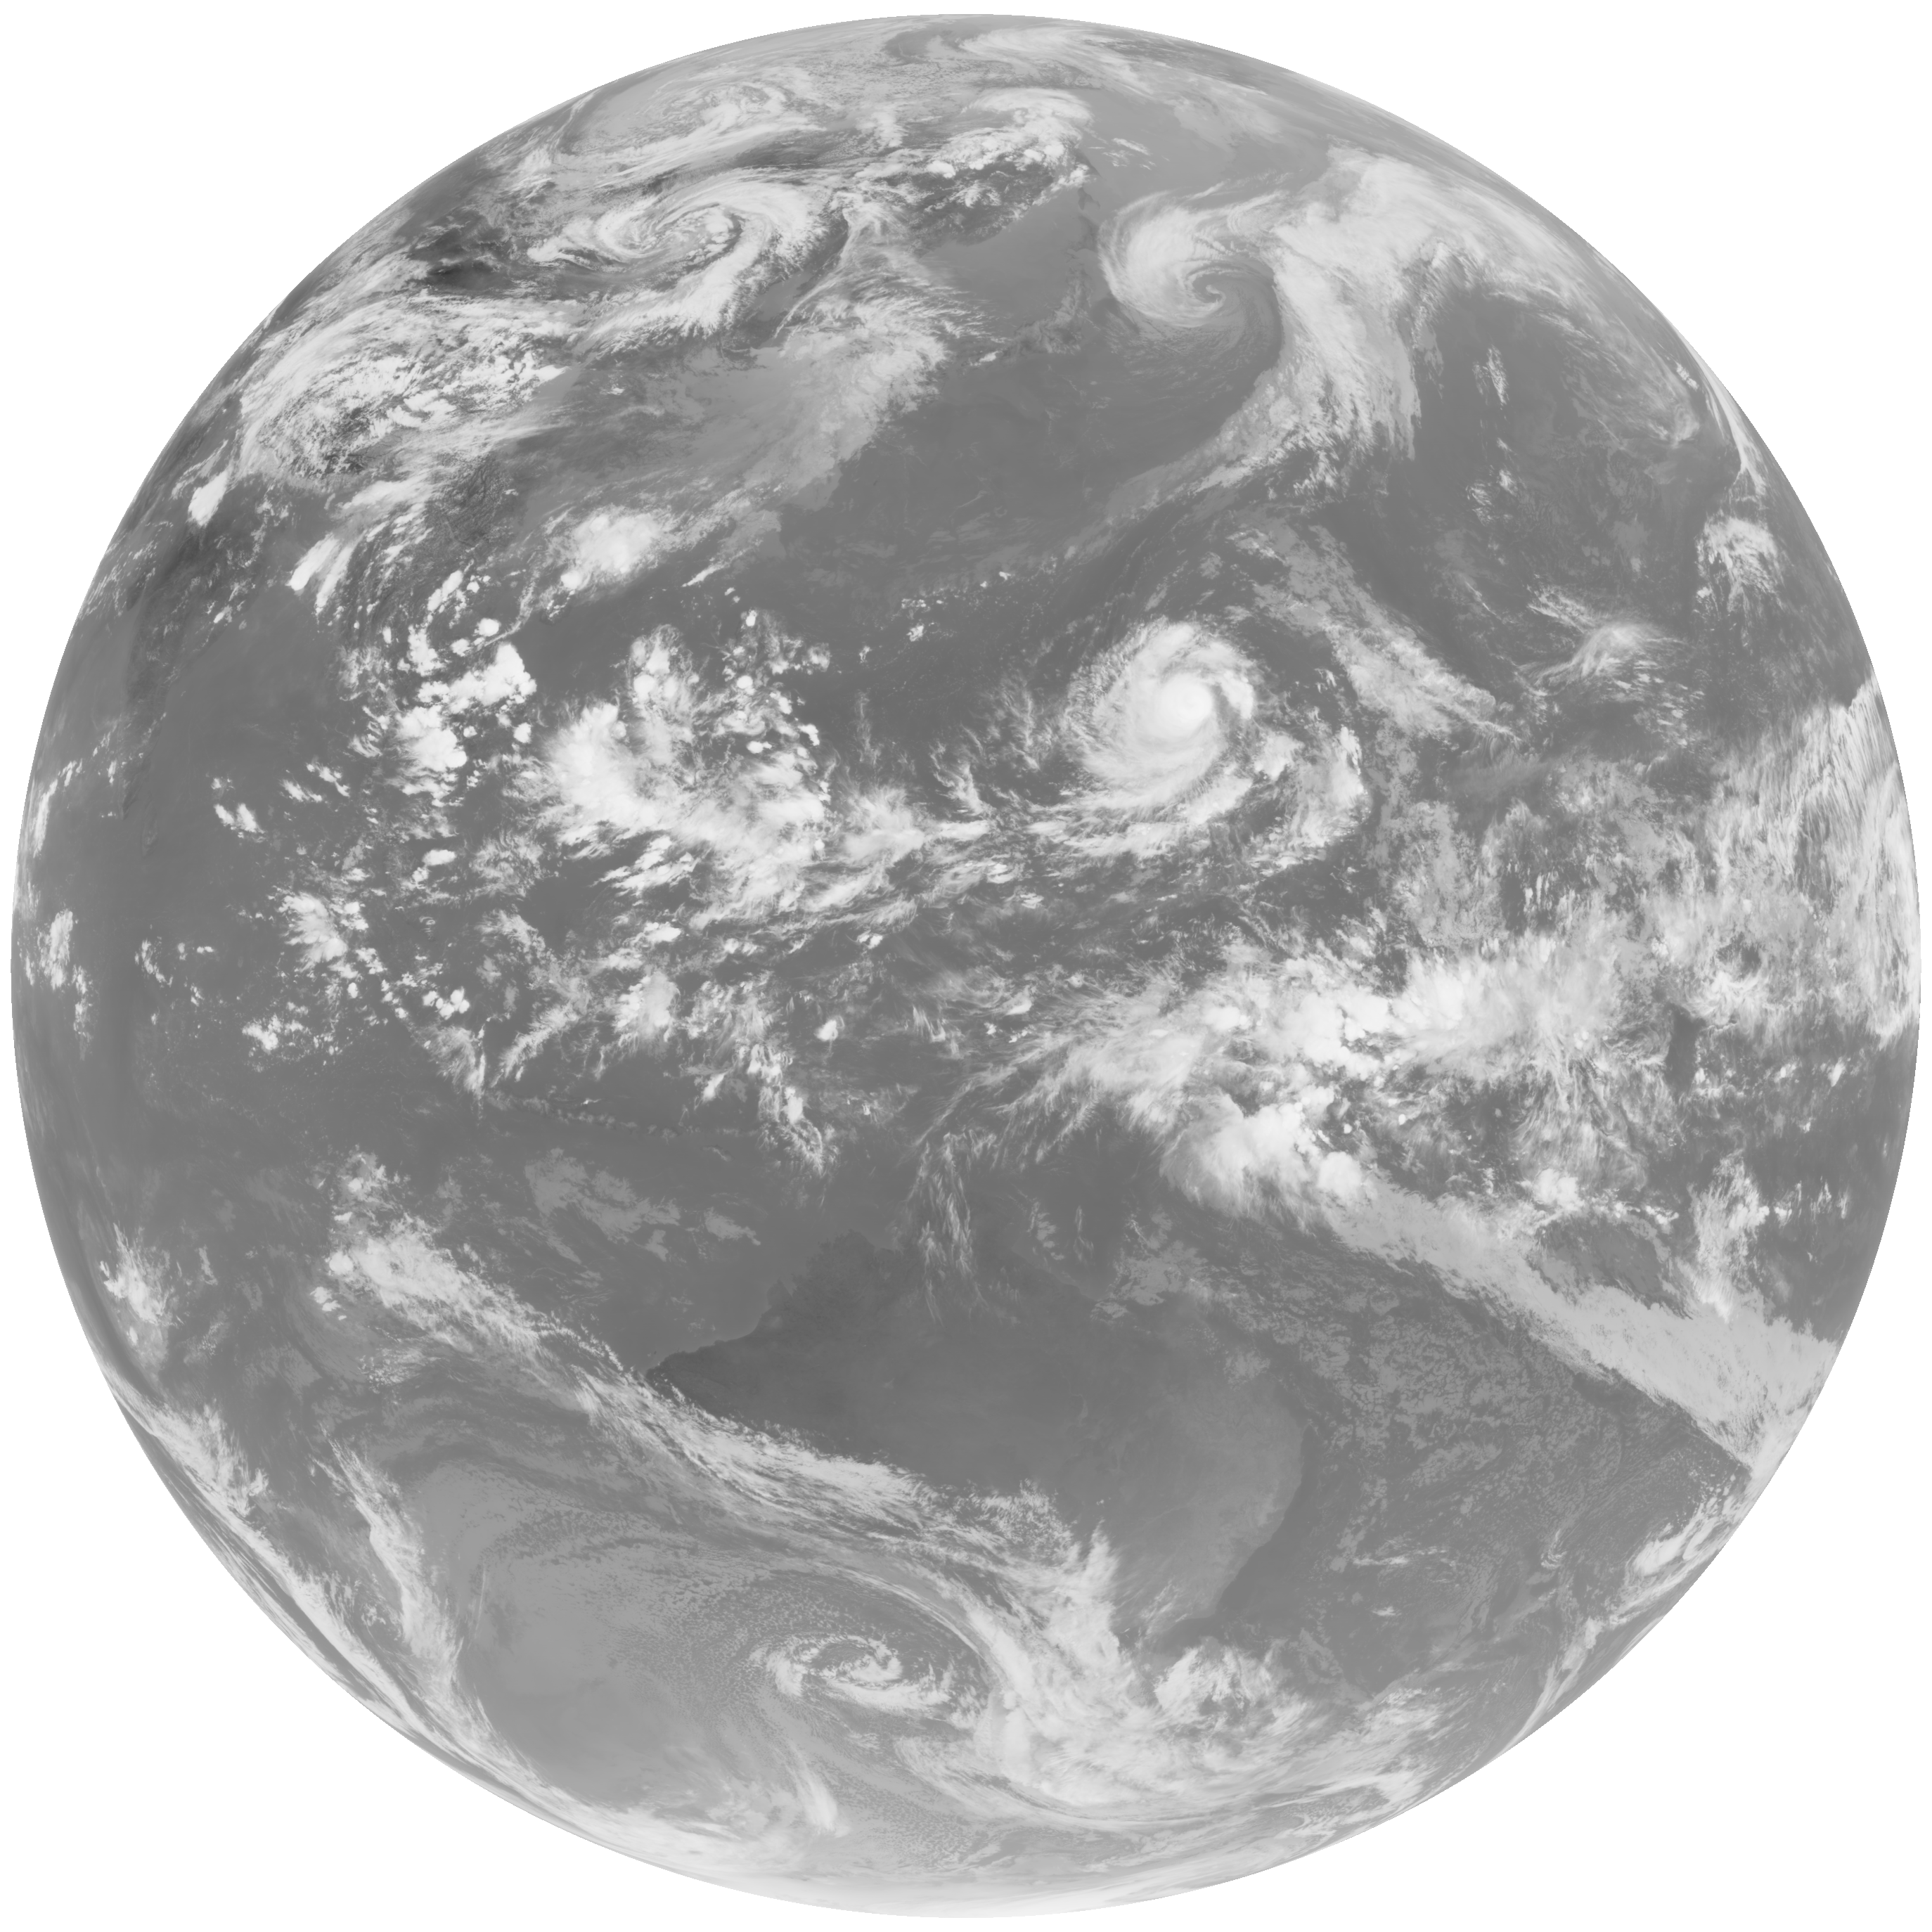typhoon: (878, 589, 1442, 904)
